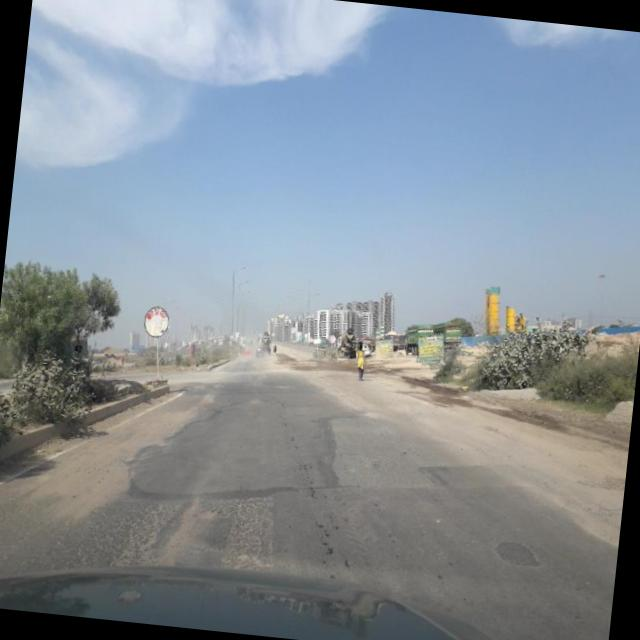crack: (53, 463, 290, 566)
